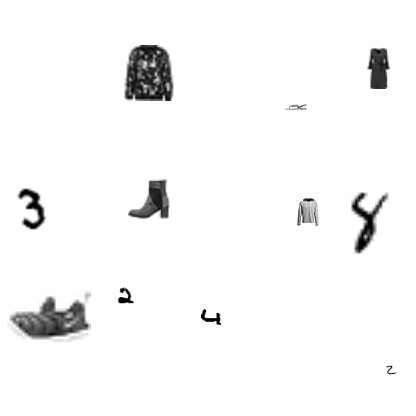2: (114, 286, 136, 308), (383, 363, 397, 377)
3: (4, 179, 60, 235)
4: (197, 304, 225, 332)
8: (322, 178, 406, 262)
Ankle_boot: (128, 178, 170, 220)
Coat: (121, 45, 177, 101)
Dress: (357, 47, 399, 89)
Pullover: (294, 198, 322, 226)
Sandal: (285, 96, 307, 118)
Sneaker: (7, 273, 91, 357)
